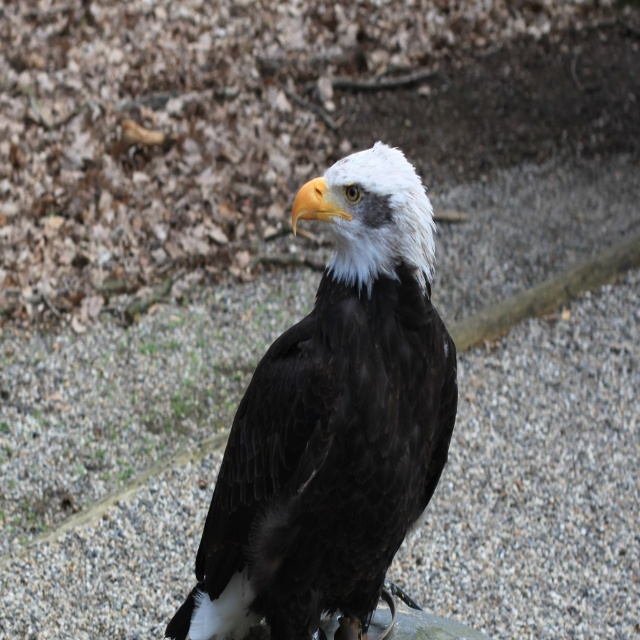Eagle: (165, 139, 464, 639)
